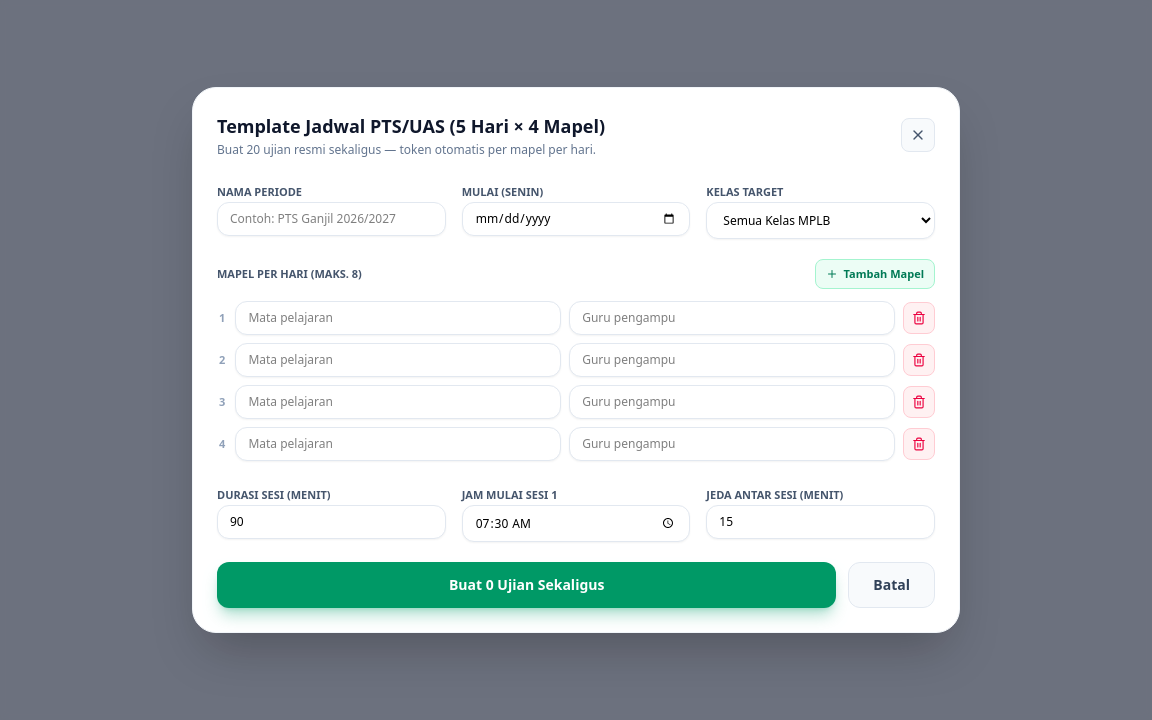
Test: CbtBulkScheduleModal › mengirim payload dan menampilkan hasil dengan token
Type "PTS Ganjil" into the field with placeholder "Contoh: PTS Ganjil 2026/2027" at (331, 219), box [217,202,446,236]
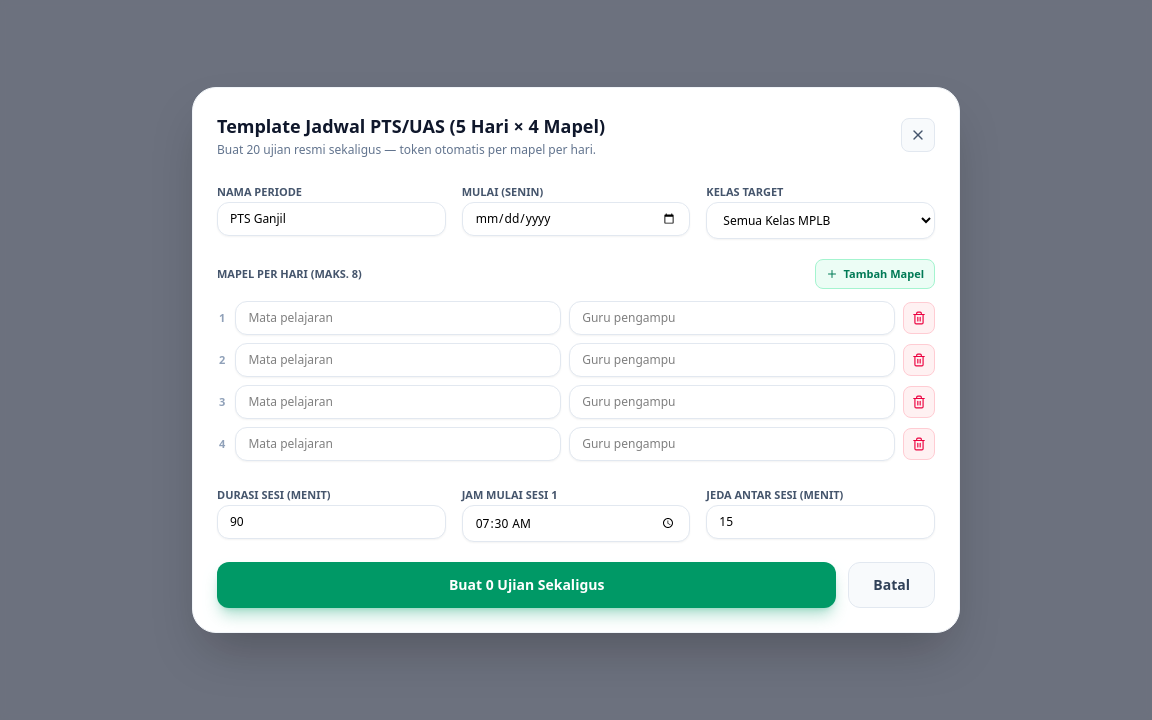
Type "2026-09-14" into the date field labelled "Mulai (Senin)" at (576, 219), box [462,202,690,236]
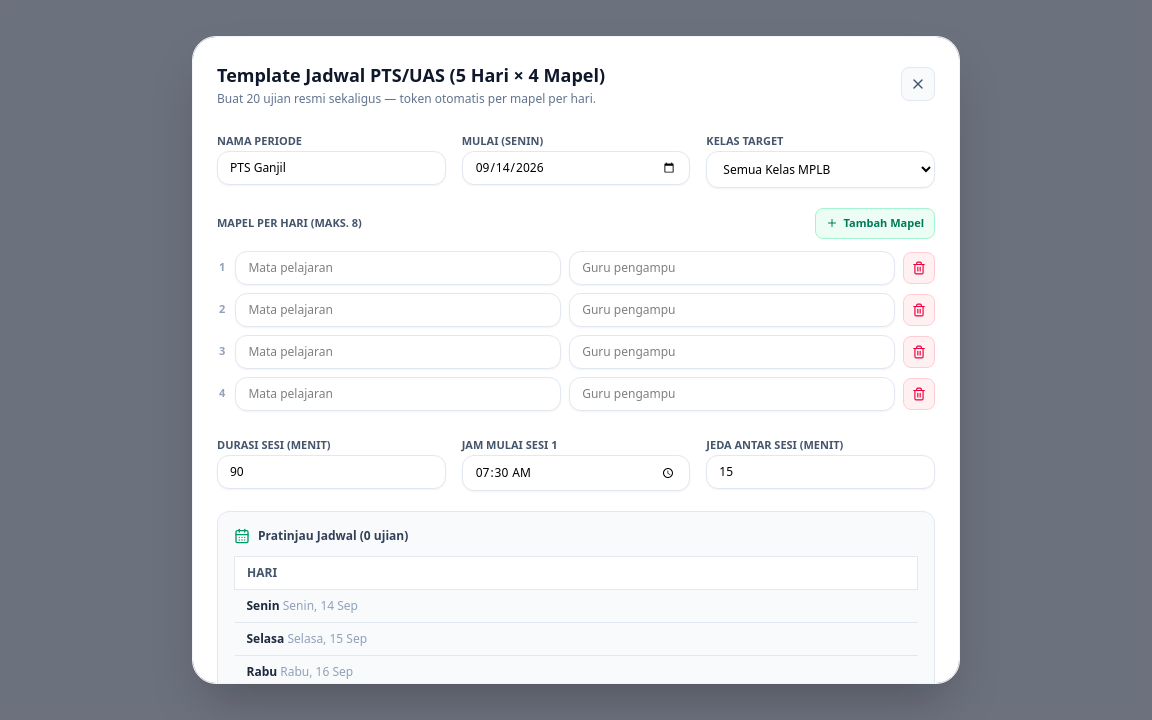
Type "Kearsipan" into the 1st field with placeholder "Mata pelajaran" at (398, 268), box [235,250,561,284]
(page scrolled)
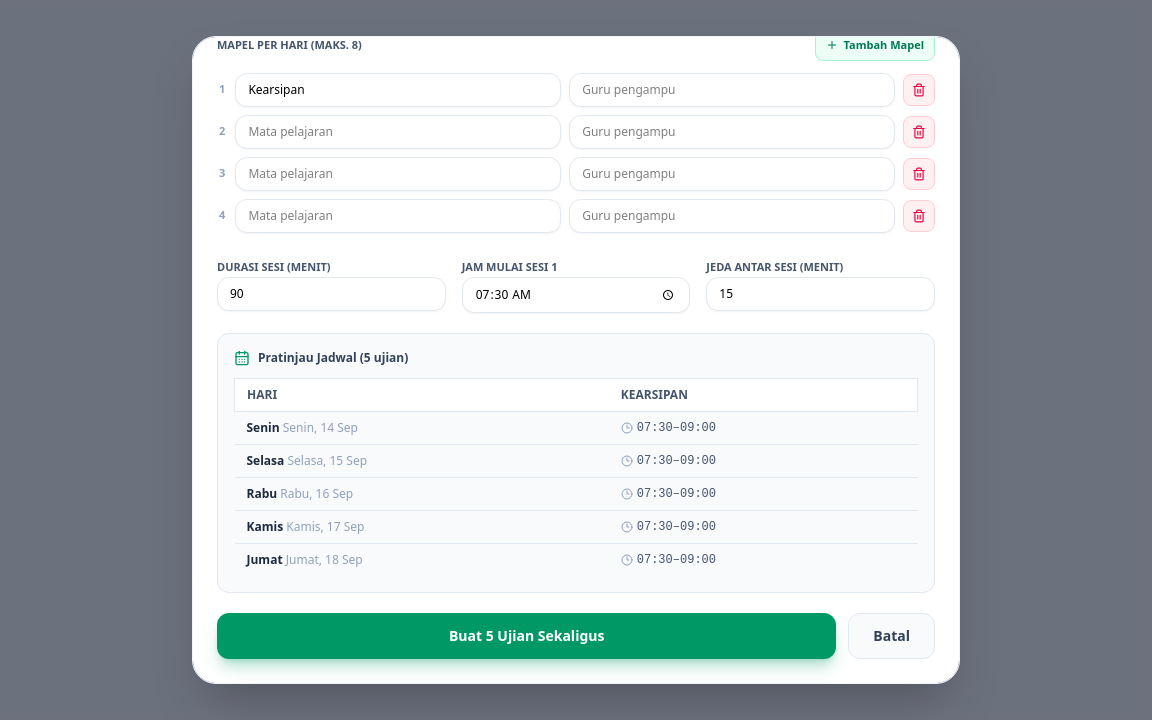
Click the button "Buat 5 Ujian Sekaligus" at (527, 636), box [217,613,836,659]
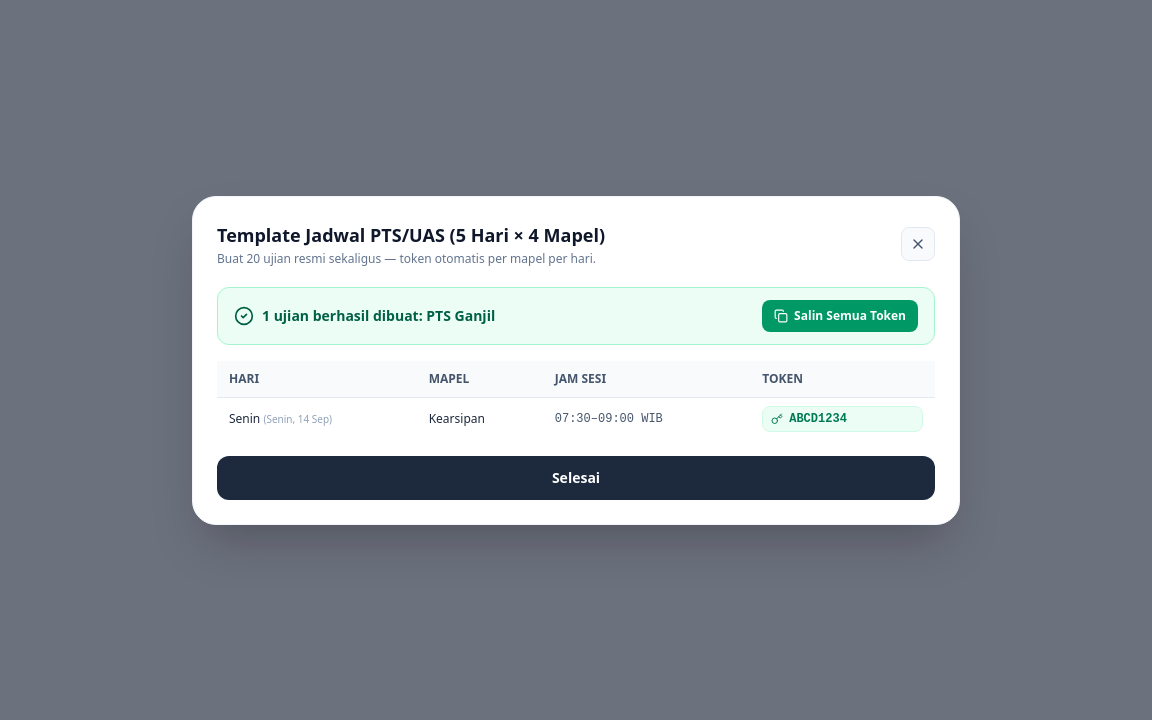
Result: the text "1 ujian berhasil dibuat: PTS Ganjil" is shown at [234,306,495,326]
Result: the text "ABCD1234" is shown at [762,406,923,432]
